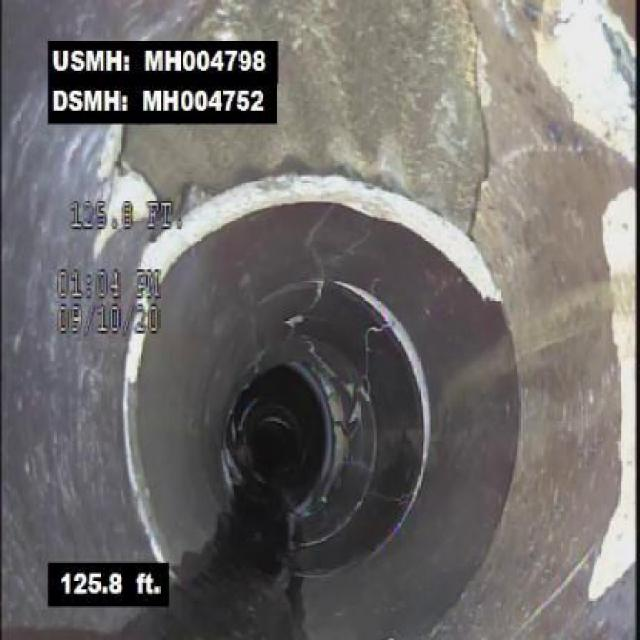Crack: (457, 0, 500, 242)
Joint offset: (137, 169, 308, 266), (116, 274, 172, 561), (314, 175, 463, 277)
